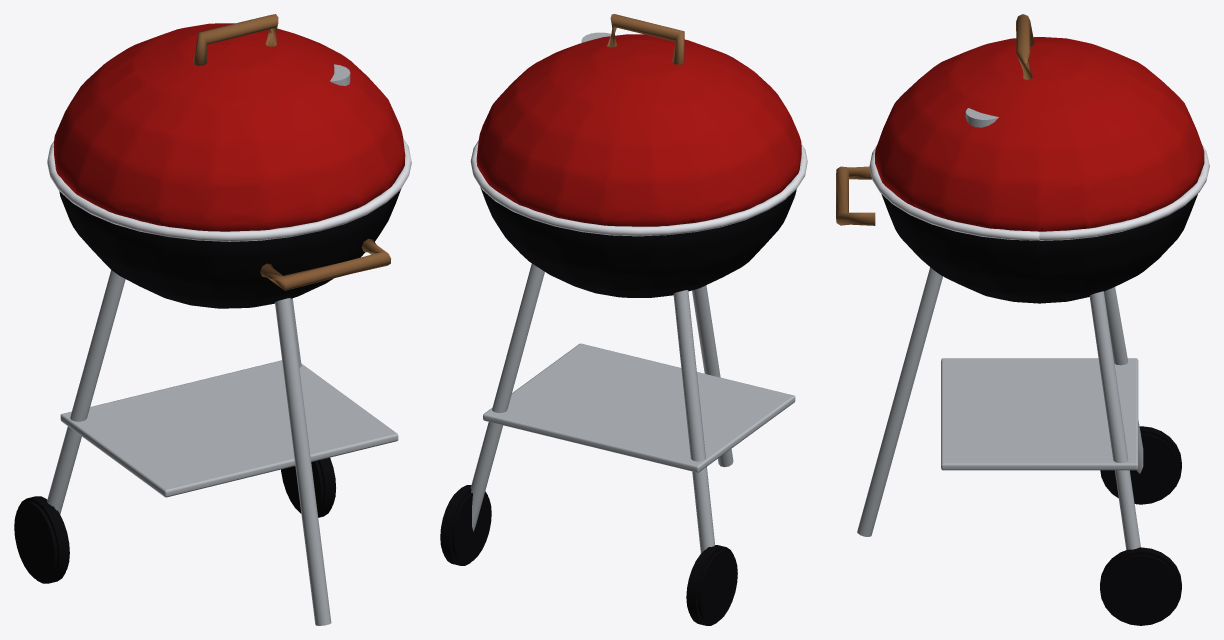
The model's file is grill.glb.
3 renders of one model, left to right at view 1: azimuth 30°, elevation 25°; view 2: azimuth 150°, elevation 25°; view 3: azimuth 270°, elevation 25°, orthographic. The views are drawn at different scales.
Parts seen in each view (by area): view 1: Body, Lid; view 2: Body, Lid; view 3: Body, Lid.
Boxes of the visible parts, box(x1,y1,x2,y2) form: Body: box(14, 139, 411, 625); Lid: box(53, 14, 405, 231); Body: box(440, 140, 807, 625); Lid: box(476, 14, 801, 226); Body: box(836, 144, 1209, 625); Lid: box(875, 14, 1204, 231).
Size of the model in its own units: 0.6219 by 1.07 by 0.6829.
